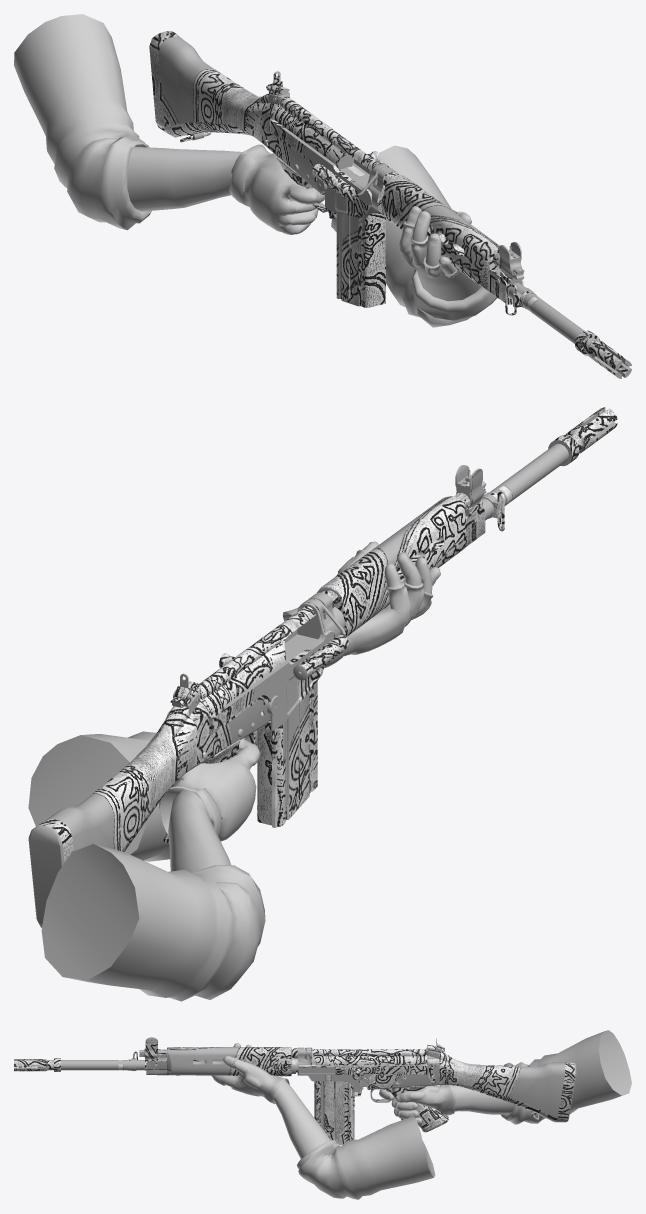
Rendered from arma.obj.
The picture shows the model from 3 angles, top to bottom: view 1: azimuth 30°, elevation 25°; view 2: azimuth 150°, elevation 25°; view 3: azimuth 270°, elevation 25°; orthographic projection. The views are drawn at different scales.
Parts seen in each view (by area): view 1: Object_74, base_FAL_0, clip_FAL_0, handle_FAL_0; view 2: Object_74, base_FAL_0, clip_FAL_0, handle_FAL_0; view 3: Object_74, base_FAL_0, clip_FAL_0, bolt_FAL_0.
Boxes of the visible parts, left/top/right/bottom form: Object_74: left=14, top=14, right=497, bottom=327; base_FAL_0: left=149, top=31, right=631, bottom=378; clip_FAL_0: left=336, top=212, right=385, bottom=307; handle_FAL_0: left=312, top=164, right=388, bottom=201; Object_74: left=28, top=541, right=440, bottom=1001; base_FAL_0: left=28, top=407, right=617, bottom=927; clip_FAL_0: left=257, top=681, right=317, bottom=827; handle_FAL_0: left=293, top=598, right=349, bottom=680; Object_74: left=211, top=1030, right=631, bottom=1199; base_FAL_0: left=14, top=1037, right=576, bottom=1132; clip_FAL_0: left=314, top=1081, right=354, bottom=1145; bolt_FAL_0: left=335, top=1067, right=404, bottom=1079.
Size of the model in its own units: 47.19 by 37.12 by 155.
